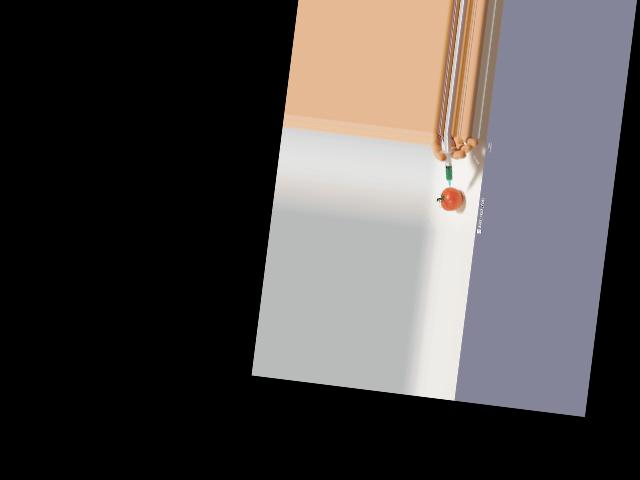tomato: (440, 186, 464, 211)
